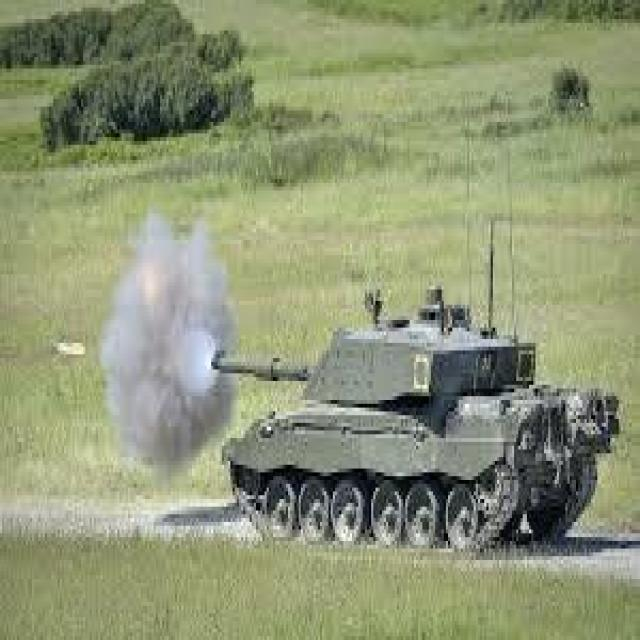MIL_MBT: (149, 194, 578, 613)
